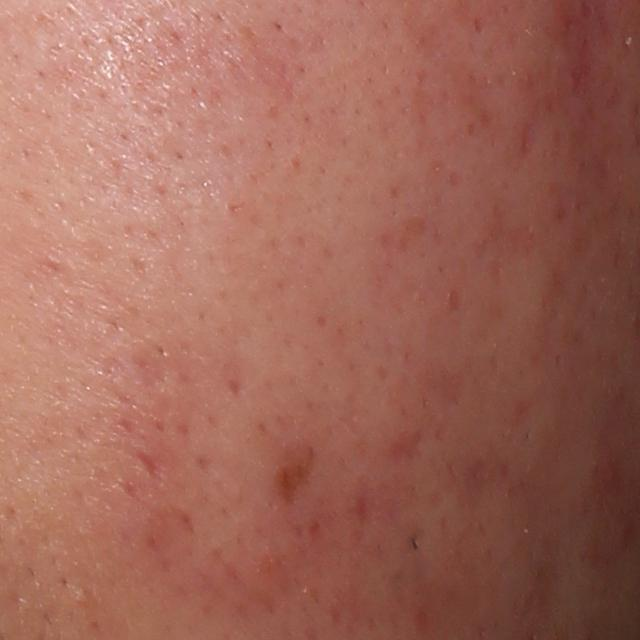atrophic_scar: (274, 445, 316, 507), (134, 447, 167, 484)
comedo: (71, 586, 92, 609)
